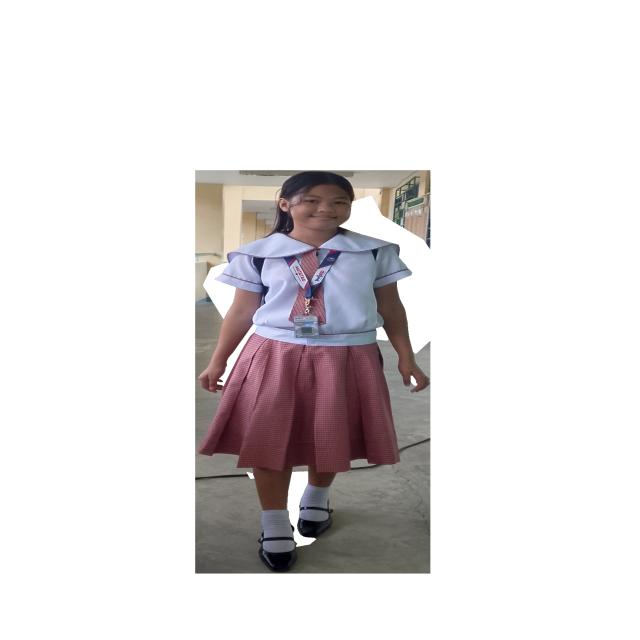id lace: (283, 251, 340, 300)
pologirl: (313, 230, 411, 346), (217, 234, 315, 342), (311, 285, 326, 325), (301, 250, 318, 281), (289, 289, 304, 320)
shoes: (258, 534, 297, 572), (297, 517, 332, 538)
skirt: (199, 334, 399, 472)
